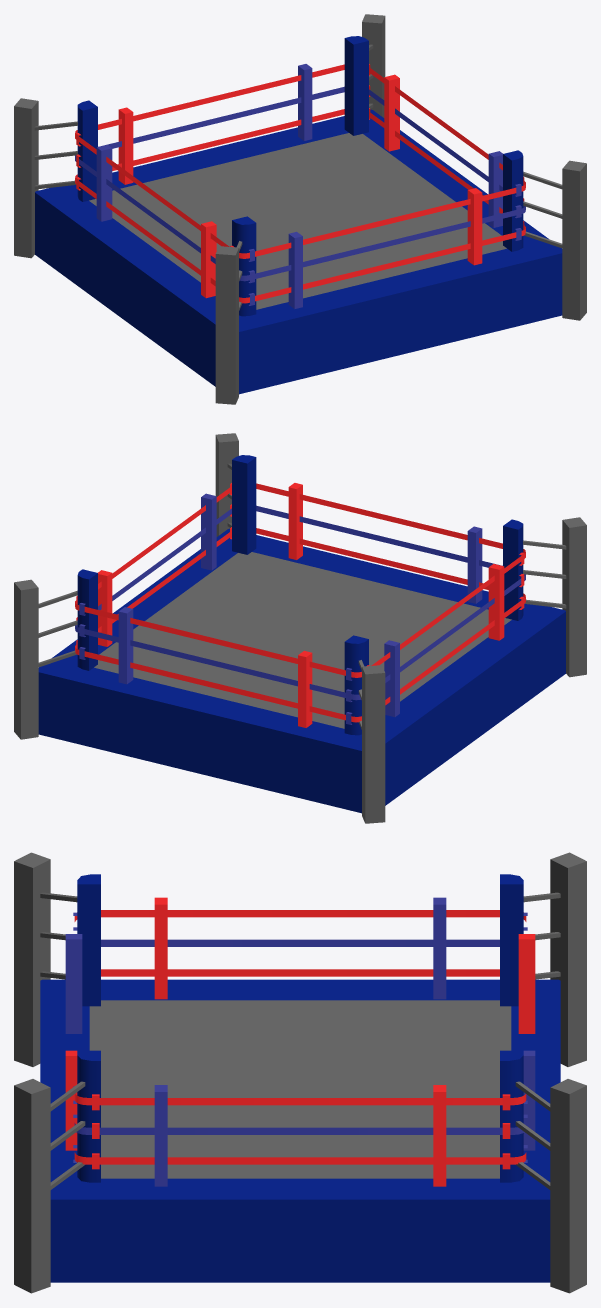
The model's file is BoxingRing.fbx.
3 views of the same model, one above another, from view 1: azimuth 30°, elevation 25°; view 2: azimuth 150°, elevation 25°; view 3: azimuth 270°, elevation 25° (orthographic). The views are drawn at different scales.
Parts seen in each view (by area): view 1: Cube.349, Cube.009; view 2: Cube.349, Cube.009; view 3: Cube.349, Cube.009.
Boxes of the visible parts, x1,y1,x2,y2 form: Cube.349: [14, 14, 586, 404]; Cube.009: [75, 64, 525, 303]; Cube.349: [14, 433, 586, 823]; Cube.009: [75, 483, 525, 722]; Cube.349: [14, 852, 586, 1293]; Cube.009: [74, 910, 526, 1164].
Size of the model in its own units: 512 by 513 by 203.
